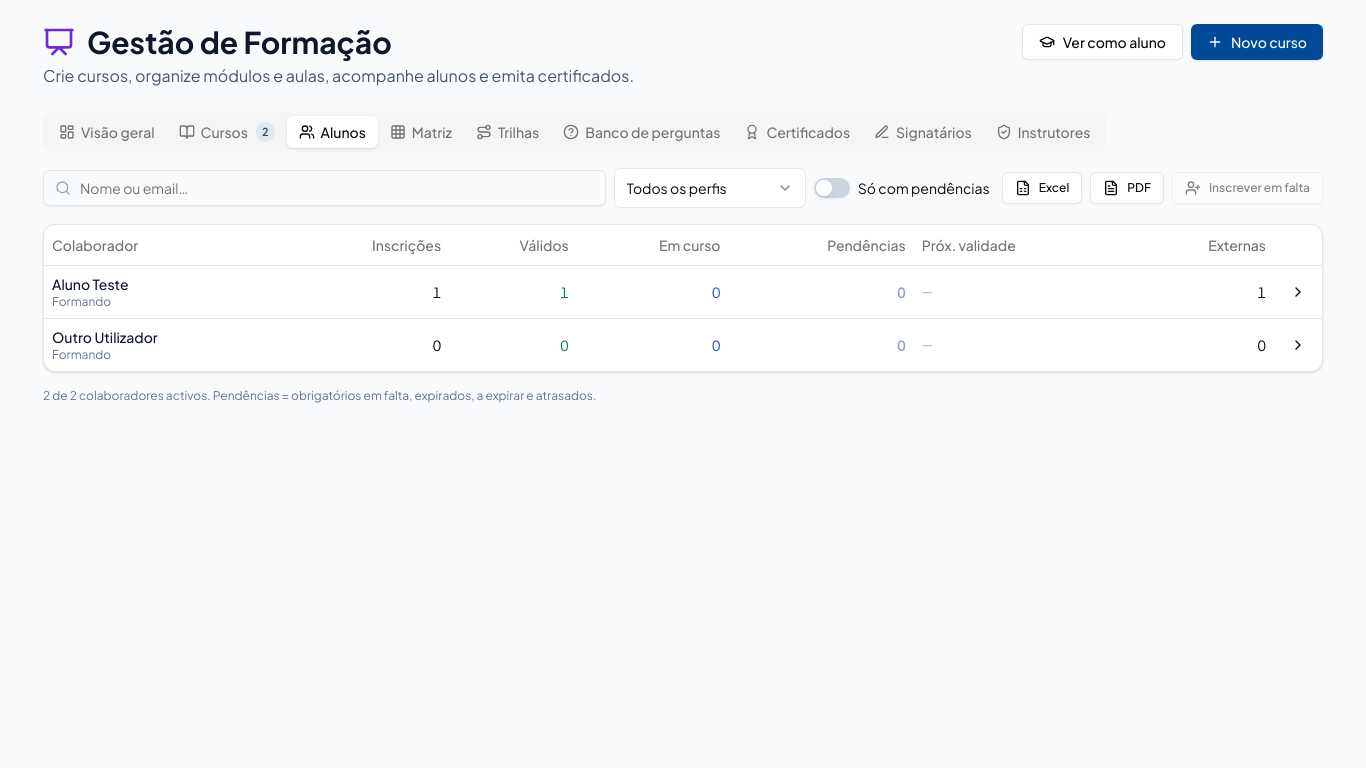
Test: Gestão de Formação › separador Alunos lista os colaboradores com pendências e abre a ficha com cursos, aulas, avaliações, externas e licenças
Expected: the text "Outro Utilizador" is shown, [52,328,158,346]
Expected: the button "Inscrever em falta" is disabled, [1172,172,1323,204]
Click the button named "Abrir ficha de Aluno Teste": (1298, 292) [1282,276,1314,308]
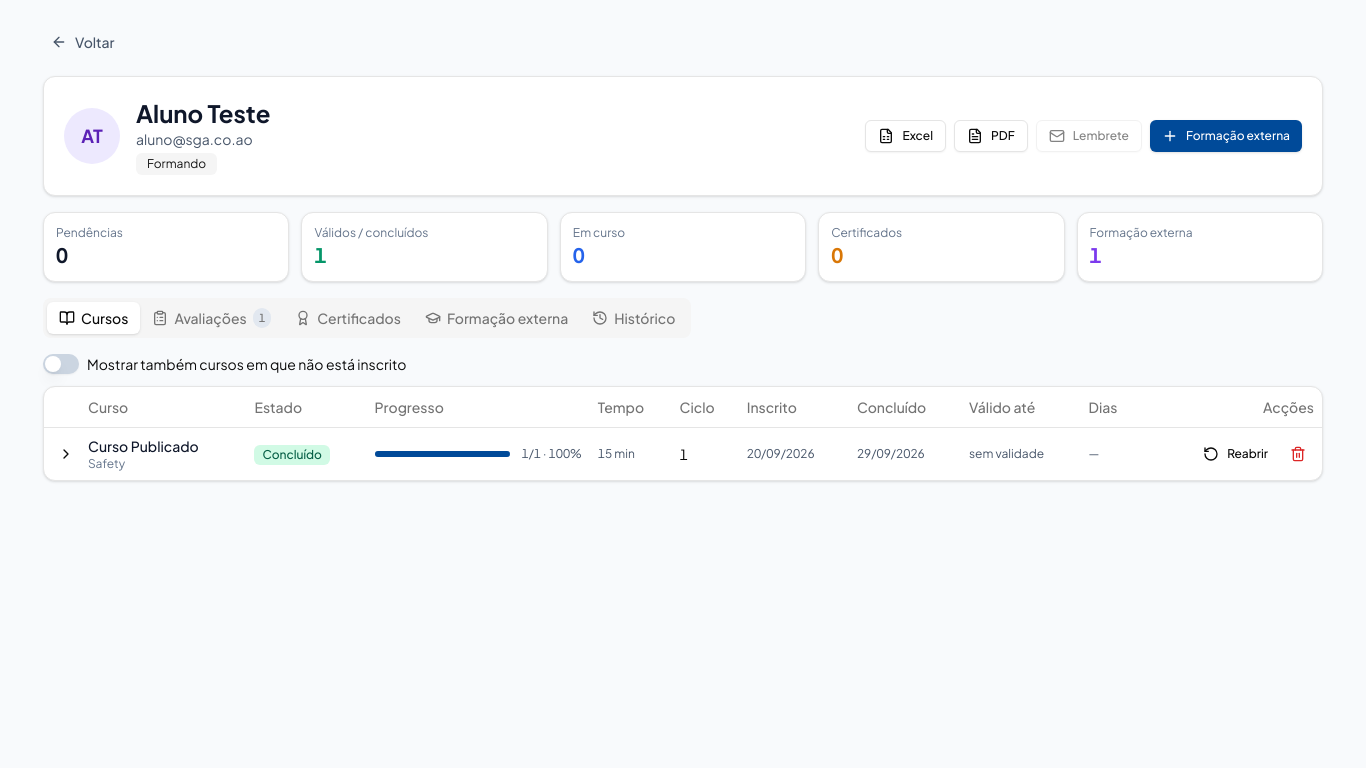
Result: the text "aluno@sga.co.ao" is shown at [136,130,253,148]
Result: the button "Curso Publicado" is shown at [88,436,199,456]
Result: the text titled "Concluído (sem validade definida)" is shown at [254,444,330,464]
# detalhe das aulas com tempo registado
Click the button named "Ver aulas": (66, 454) [52,440,80,468]
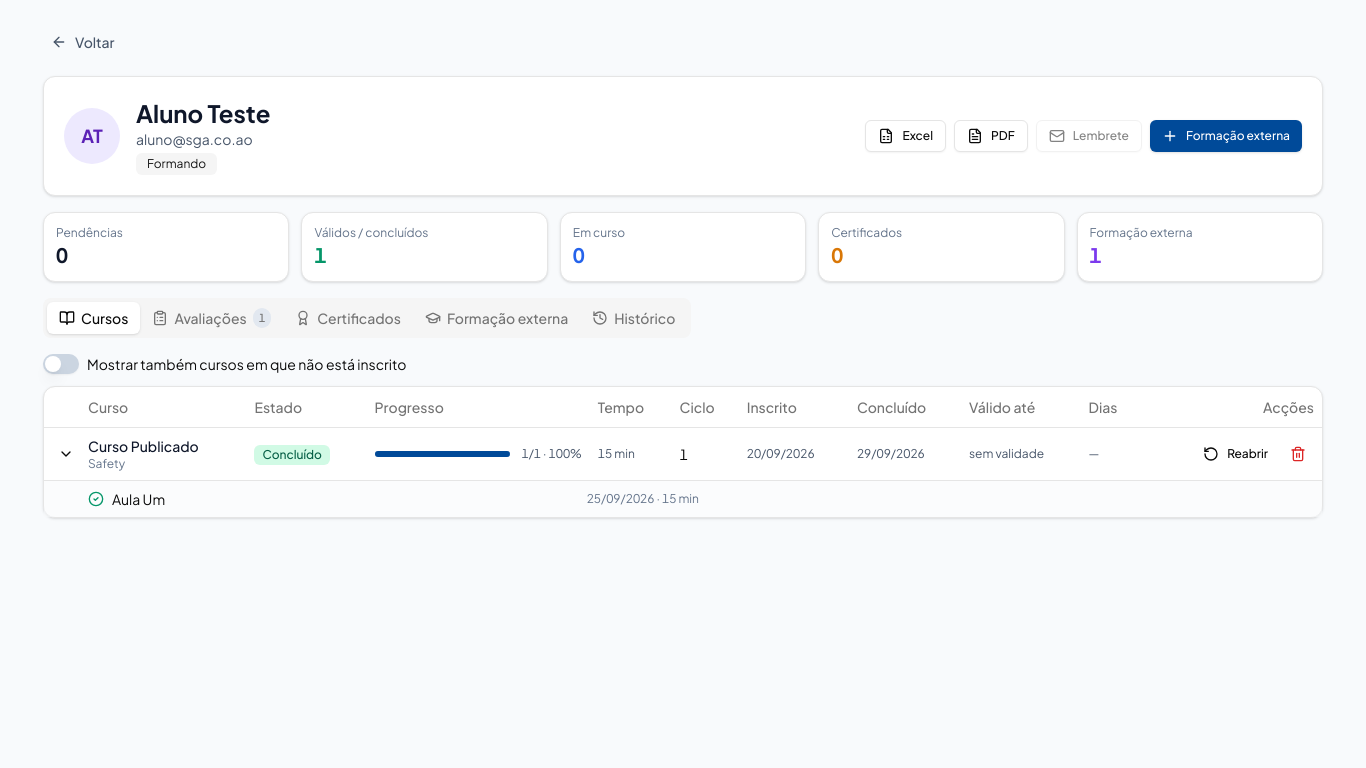
Result: the text "Aula Um" is shown at [112,490,165,508]
Press the mouse on the tab "Avaliações 1": (212, 318) [140,302,283,334]
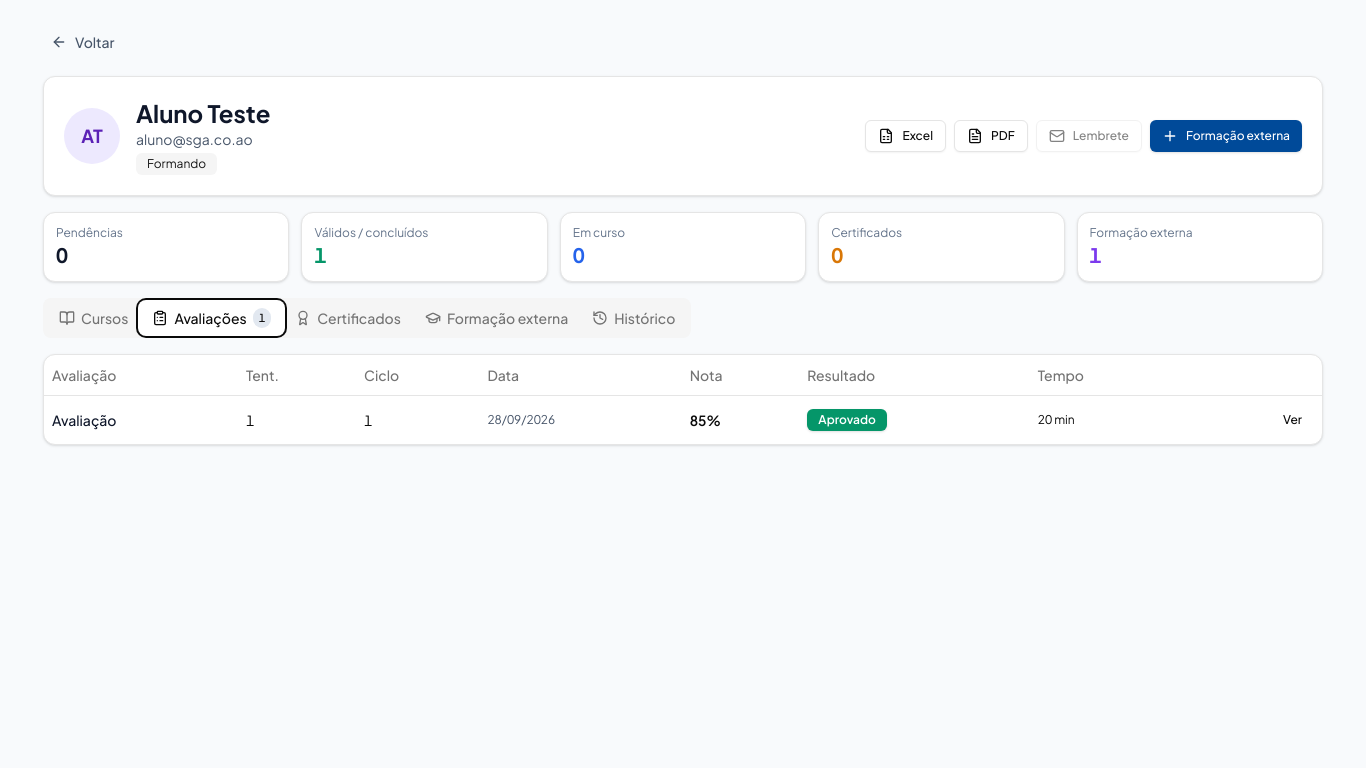
Result: the text "85%" is shown at [682,395,799,444]
Result: the text "Aprovado" is shown at [807,409,887,431]
Press the mouse on the tab "Formação externa": (497, 318) [413,302,580,334]
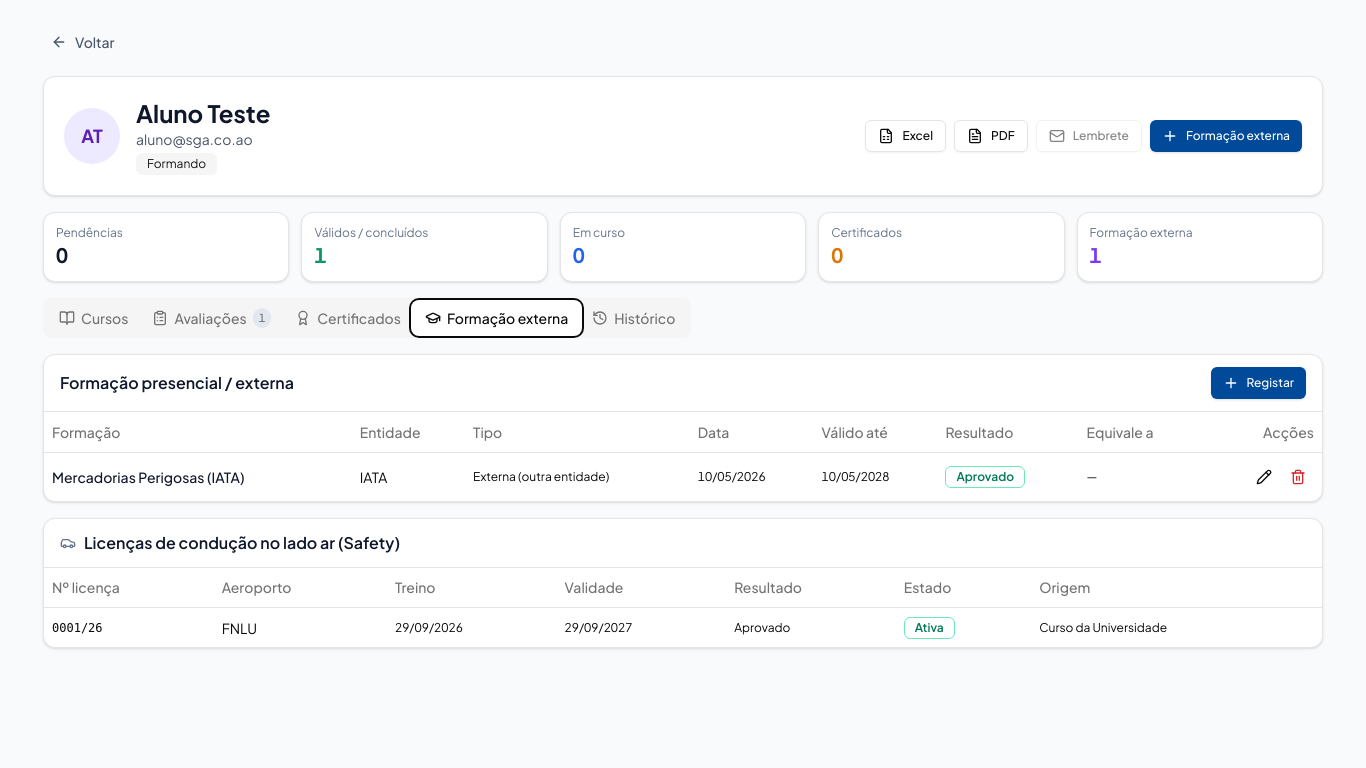
Result: the text "Mercadorias Perigosas (IATA)" is shown at [52,468,244,486]
Result: the text "0001/26" is shown at [44,608,214,647]
Result: the text "Curso da Universidade" is shown at [1031,608,1322,647]
Press the mouse on the tab "Histórico": (634, 318) [580,302,687,334]
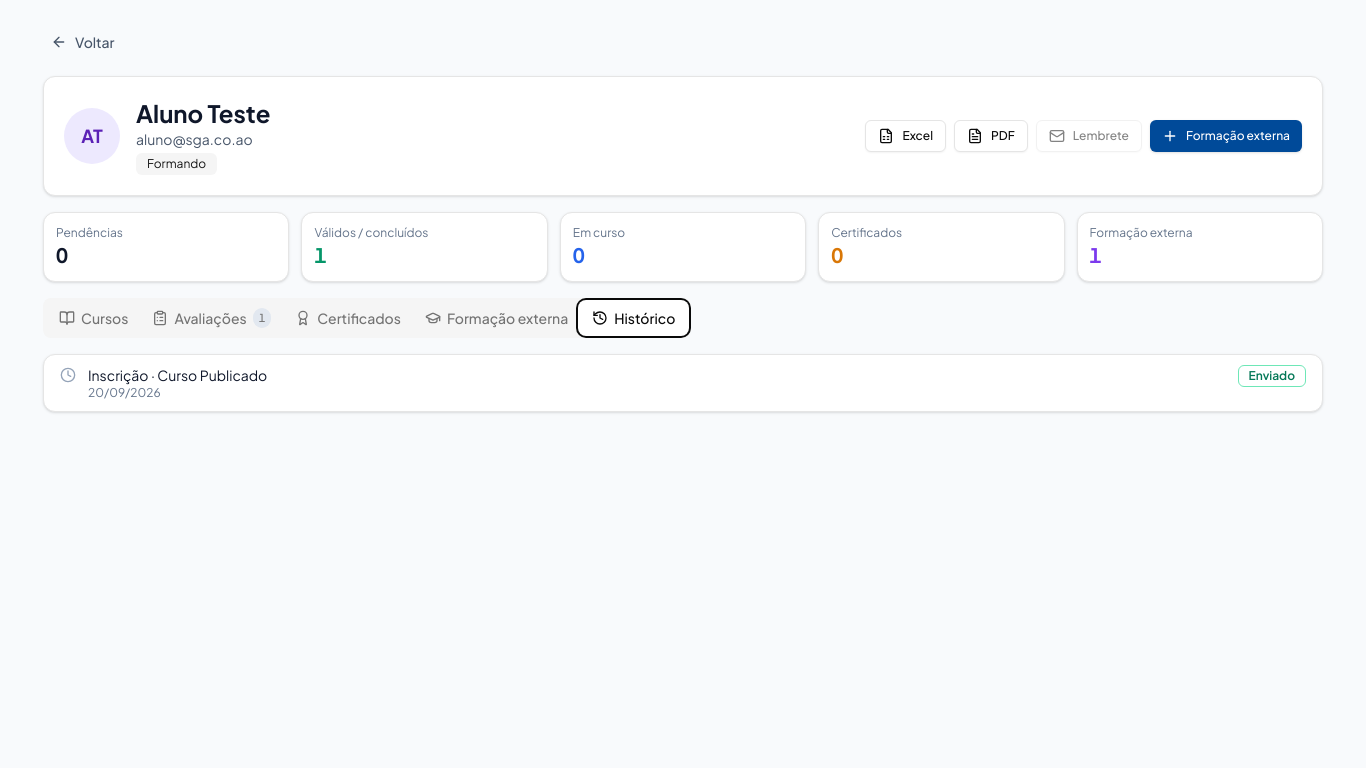
Result: the text "Inscrição · Curso Publicado" is shown at [88,366,267,384]
